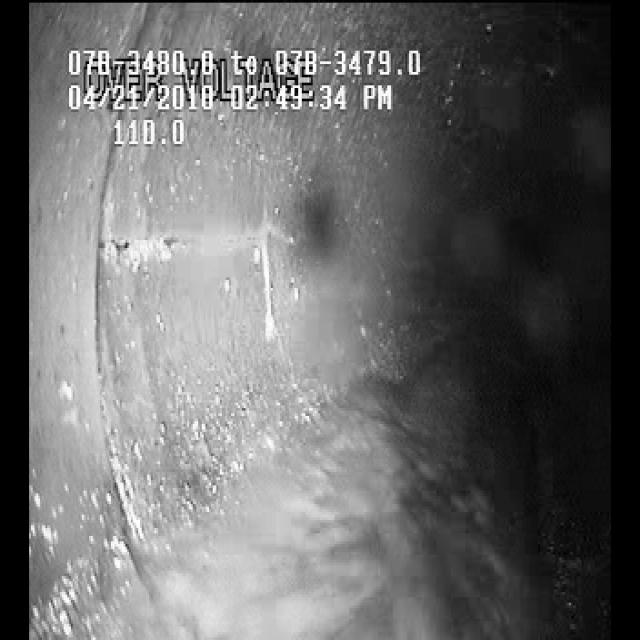Crack: (100, 182, 293, 322)
